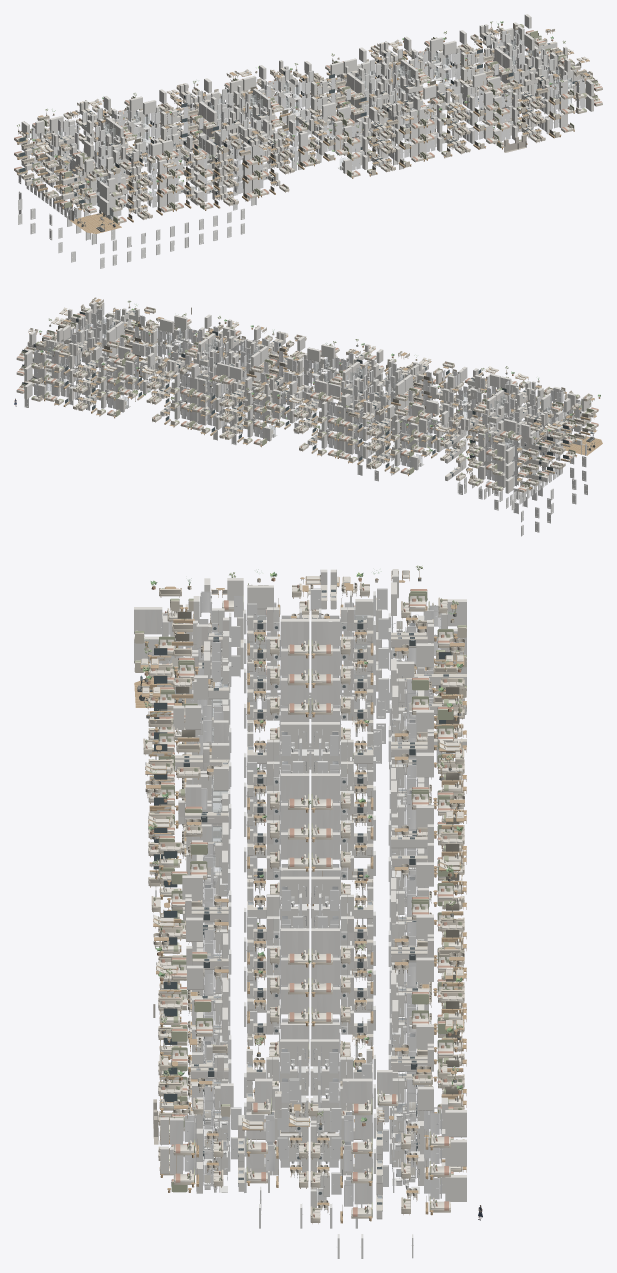
File: apolo_mobiliario.glb
3 renders of one model, top to bottom at view 1: azimuth 30°, elevation 25°; view 2: azimuth 150°, elevation 25°; view 3: azimuth 270°, elevation 25°, orthographic. The views are drawn at different scales.
Visible parts, largest first — view 1: mob__T4__Y5__V4_Casco_blanco_roto__y16.64, mob__T2__Y6__V4_Casco_blanco_roto__y18.04, mob__T0__Y6__V4_Casco_blanco_roto__y19.44, mob__T6__Y4__V4_Casco_blanco_roto__y12.24, mob__T4__Y4__V4_Casco_blanco_roto__y13.64, mob__T2__Y5__V4_Casco_blanco_roto__y15.04, mob__T0__Y5__V4_Casco_blanco_roto__y16.44, mob__T1__Y3__Gym_roble_claro__y9.45, puerta__T4__Y5__APOLO | Lacado blanco satinado__y15.86, puerta__T0__Y6__APOLO | Lacado blanco satinado__y18.66, mob__T5__Y5__V4_Frente_blanco_roto_mate__y15.91, puerta__T2__Y5__APOLO V6 | Puertas interiores lacado blanco_ (+59 smaller); view 2: mob__T4__Y5__V4_Casco_blanco_roto__y16.64, mob__T2__Y6__V4_Casco_blanco_roto__y18.04, puerta__T0__Y2__APOLO | Lacado blanco satinado__y7.04, mob__T0__Y6__V4_Casco_blanco_roto__y19.44, mob__T4__Y5__V4_Frente_blanco_roto_mate__y16.69, mob__T6__Y4__V4_Casco_blanco_roto__y12.24, mob__T4__Y4__V4_Casco_blanco_roto__y13.64, mob__T2__Y6__V4_Frente_blanco_roto_mate__y18.09, mob__T5__Y5__V4_Casco_blanco_roto__y15.86, mob__T3__Y5__V4_Casco_blanco_roto__y17.26, mob__T2__Y5__V4_Casco_blanco_roto__y15.04, puerta__T2__Y5__APOLO V6 | Puertas interiores lacado blanco_ (+63 smaller); view 3: mob__T2__Y6__V4_Casco_blanco_roto__y18.04, mob__T4__Y5__V4_Casco_blanco_roto__y16.64, mob__T6__Y4__V4_Casco_blanco_roto__y12.24, mob__T0__Y6__V4_Casco_blanco_roto__y19.44, mob__T6__Y3__V4_Casco_blanco_roto__y9.24, mob__T5__Y5__V4_Casco_blanco_roto__y15.86, mob__T3__Y5__V4_Casco_blanco_roto__y17.26, mob__T0__Y5__V4_Frente_blanco_roto_mate__y16.49, puerta__T0__Y2__APOLO | Lacado blanco satinado__y7.04, puerta__T6__Y3__APOLO V6 | Puertas interiores lacado blanco_, mob__T6__Y4__Tela_lino_marfil__y12.02, mob__T4__Y4__V4_Casco_blanco_roto__y13.64 (+47 smaller).
Part boxes in pixels (x1,y1,x2,y2): mob__T4__Y5__V4_Casco_blanco_roto__y16.64: [284, 36, 443, 101]; mob__T2__Y6__V4_Casco_blanco_roto__y18.04: [143, 60, 292, 130]; mob__T0__Y6__V4_Casco_blanco_roto__y19.44: [35, 96, 142, 156]; mob__T6__Y4__V4_Casco_blanco_roto__y12.24: [436, 22, 567, 76]; mob__T4__Y4__V4_Casco_blanco_roto__y13.64: [287, 47, 436, 112]; mob__T2__Y5__V4_Casco_blanco_roto__y15.04: [136, 75, 285, 144]; mob__T0__Y5__V4_Casco_blanco_roto__y16.44: [21, 106, 136, 175]; mob__T1__Y3__Gym_roble_claro__y9.45: [70, 212, 121, 233]; puerta__T4__Y5__APOLO | Lacado blanco satinado__y15.86: [308, 49, 402, 101]; puerta__T0__Y6__APOLO | Lacado blanco satinado__y18.66: [58, 108, 112, 156]; mob__T5__Y5__V4_Frente_blanco_roto_mate__y15.91: [338, 74, 486, 121]; puerta__T2__Y5__APOLO V6 | Puertas interiores lacado blanco_: [145, 80, 286, 134]; mob__T4__Y5__V4_Casco_blanco_roto__y16.64: [133, 333, 277, 395]; mob__T2__Y6__V4_Casco_blanco_roto__y18.04: [270, 361, 424, 418]; puerta__T0__Y2__APOLO | Lacado blanco satinado__y7.04: [457, 459, 562, 509]; mob__T0__Y6__V4_Casco_blanco_roto__y19.44: [426, 389, 549, 437]; mob__T4__Y5__V4_Frente_blanco_roto_mate__y16.69: [132, 343, 268, 390]; mob__T6__Y4__V4_Casco_blanco_roto__y12.24: [24, 309, 128, 379]; mob__T4__Y4__V4_Casco_blanco_roto__y13.64: [125, 348, 271, 408]; mob__T2__Y6__V4_Frente_blanco_roto_mate__y18.09: [292, 363, 423, 418]; mob__T5__Y5__V4_Casco_blanco_roto__y15.86: [174, 314, 320, 361]; mob__T3__Y5__V4_Casco_blanco_roto__y17.26: [321, 344, 466, 388]; mob__T2__Y5__V4_Casco_blanco_roto__y15.04: [272, 377, 418, 437]; puerta__T2__Y5__APOLO V6 | Puertas interiores lacado blanco_: [281, 380, 427, 434]; mob__T2__Y6__V4_Casco_blanco_roto__y18.04: [247, 685, 433, 847]; mob__T4__Y5__V4_Casco_blanco_roto__y16.64: [247, 843, 433, 1005]; mob__T6__Y4__V4_Casco_blanco_roto__y12.24: [246, 1039, 466, 1153]; mob__T0__Y6__V4_Casco_blanco_roto__y19.44: [247, 569, 433, 691]; mob__T6__Y3__V4_Casco_blanco_roto__y9.24: [246, 1068, 466, 1183]; mob__T5__Y5__V4_Casco_blanco_roto__y15.86: [182, 850, 228, 1013]; mob__T3__Y5__V4_Casco_blanco_roto__y17.26: [173, 705, 229, 856]; mob__T0__Y5__V4_Frente_blanco_roto_mate__y16.49: [280, 602, 466, 696]; puerta__T0__Y2__APOLO | Lacado blanco satinado__y7.04: [261, 692, 464, 769]; puerta__T6__Y3__APOLO V6 | Puertas interiores lacado blanco_: [265, 1058, 441, 1165]; mob__T6__Y4__Tela_lino_marfil__y12.02: [242, 1037, 462, 1148]; mob__T4__Y4__V4_Casco_blanco_roto__y13.64: [247, 886, 429, 1010].
Size of the model in its own units: 111 by 20.7 by 32.23.
Materials: 75 (4 with a texture image).
